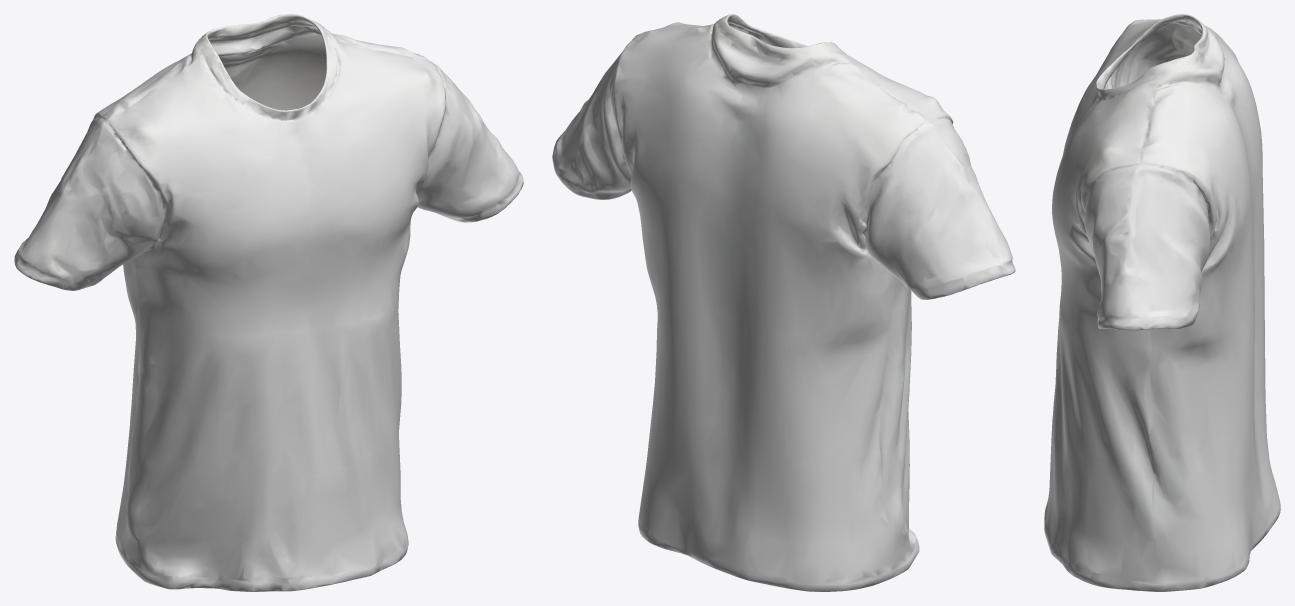
The picture shows the model from 3 angles, left to right: view 1: azimuth 30°, elevation 25°; view 2: azimuth 150°, elevation 25°; view 3: azimuth 270°, elevation 25°; orthographic projection. The views are drawn at different scales.
Parts seen in each view (by area): view 1: tripo_node_8d002aa7-d6a3-465f-96a3-fdd89204ecb2; view 2: tripo_node_8d002aa7-d6a3-465f-96a3-fdd89204ecb2; view 3: tripo_node_8d002aa7-d6a3-465f-96a3-fdd89204ecb2.
Part boxes in pixels (left/top/right/bottom): tripo_node_8d002aa7-d6a3-465f-96a3-fdd89204ecb2: left=14, top=14, right=523, bottom=591; tripo_node_8d002aa7-d6a3-465f-96a3-fdd89204ecb2: left=552, top=14, right=1015, bottom=591; tripo_node_8d002aa7-d6a3-465f-96a3-fdd89204ecb2: left=1044, top=14, right=1280, bottom=591.
Bounding box in the file's own units: 0.9654 × 0.9998 × 0.4287.
Materials: 1 (1 with a texture image).
